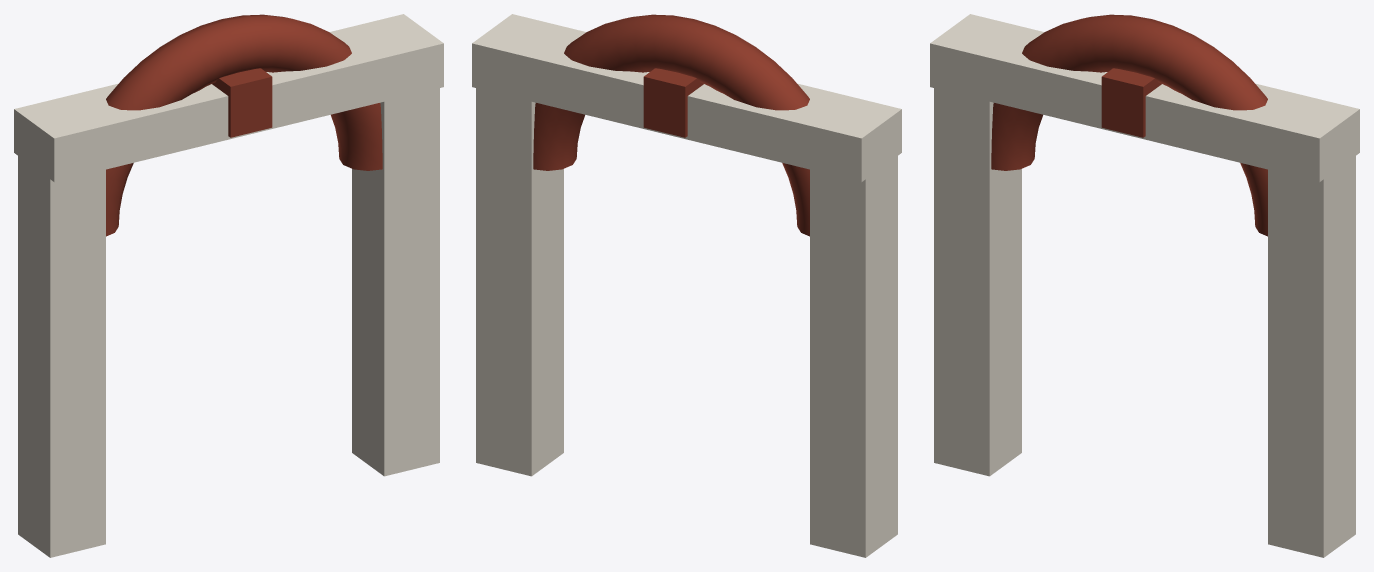
Rendered from arch-gate.glb.
3 views of the same model, side by side, from view 1: azimuth 30°, elevation 25°; view 2: azimuth 150°, elevation 25°; view 3: azimuth 330°, elevation 25° (orthographic).
Bounding box in the file's own units: 2.8 × 3.28 × 0.56.
